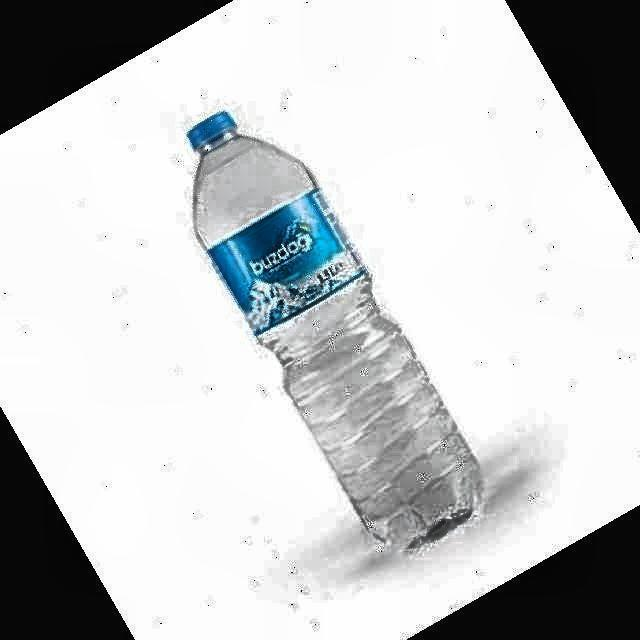plastic: (188, 112, 479, 547)
